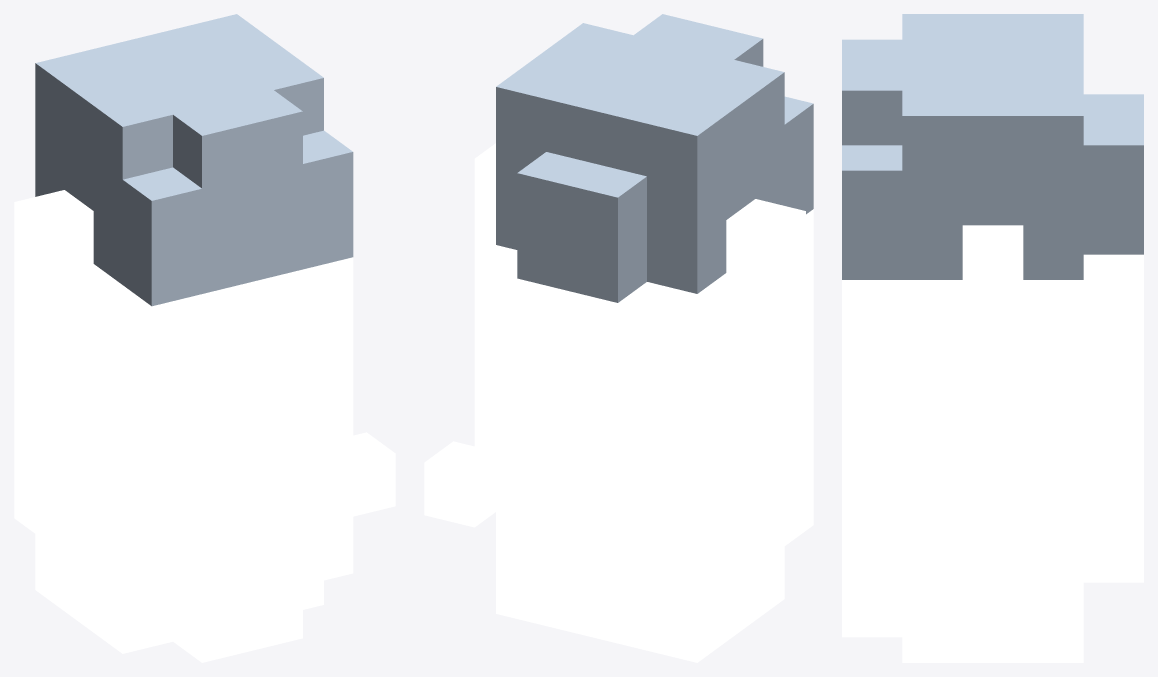
The model's file is stormsilk_bolt_lod1.glb.
3 views of the same model, side by side, from view 1: azimuth 30°, elevation 25°; view 2: azimuth 150°, elevation 25°; view 3: azimuth 270°, elevation 25° (orthographic). The views are drawn at different scales.
Visible parts, largest first — view 1: stormsilk_bolt_lod1; view 2: stormsilk_bolt_lod1; view 3: stormsilk_bolt_lod1.
Part boxes in pixels (x1,y1,x2,y2): stormsilk_bolt_lod1: (14, 14, 395, 662); stormsilk_bolt_lod1: (424, 14, 813, 662); stormsilk_bolt_lod1: (842, 14, 1143, 662).
Size of the model in its own units: 0.28 by 0.4 by 0.2.
